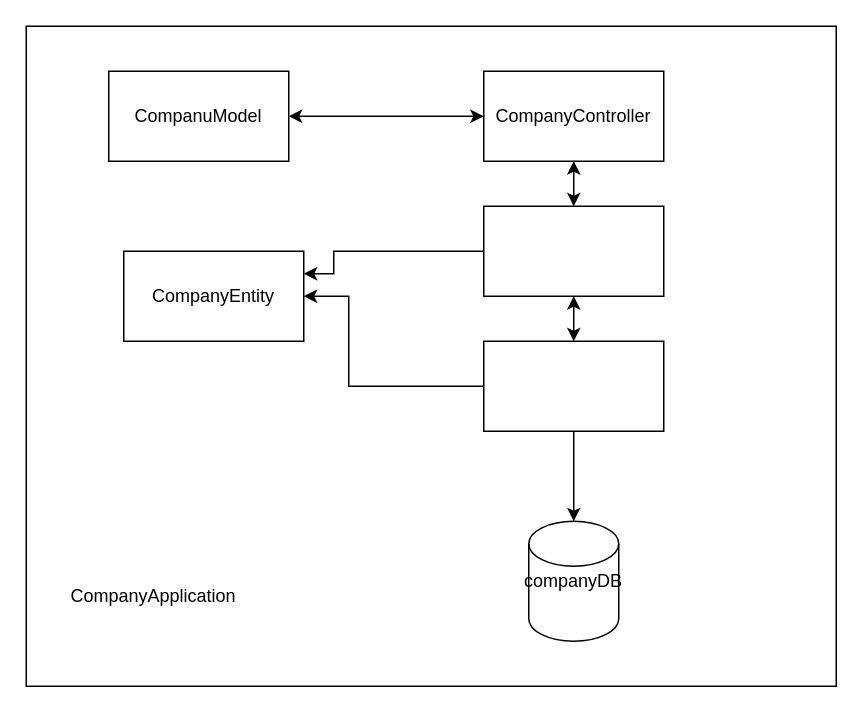
The diagram is 863 pixels wide and 713 high, and some of its shapes have lost their labels. The shapes that lost their labels are listed below. From the top down, each one's centre as x and y in pixels, then its label:
the point at 573,250: CompanyService
the point at 573,385: CompanyRepo (repository)
